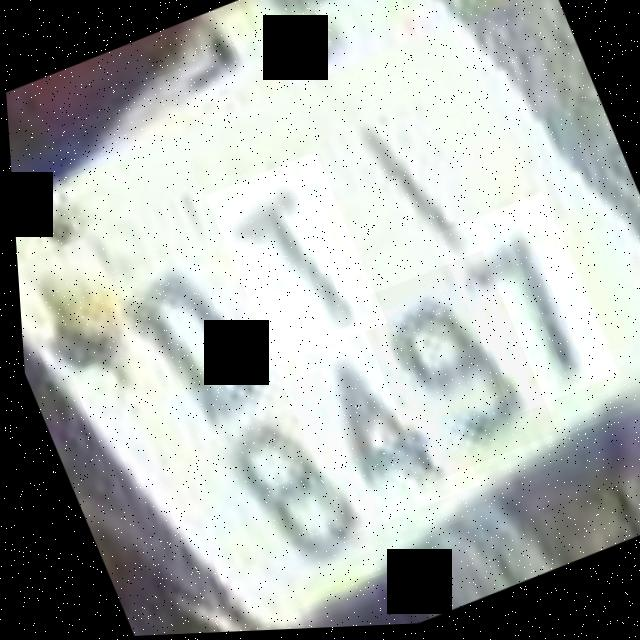4: (263, 303, 476, 542)
7: (431, 194, 615, 423)
8: (190, 370, 390, 602)
9: (346, 252, 554, 489)
O: (96, 232, 294, 458)
T: (200, 152, 384, 371)
